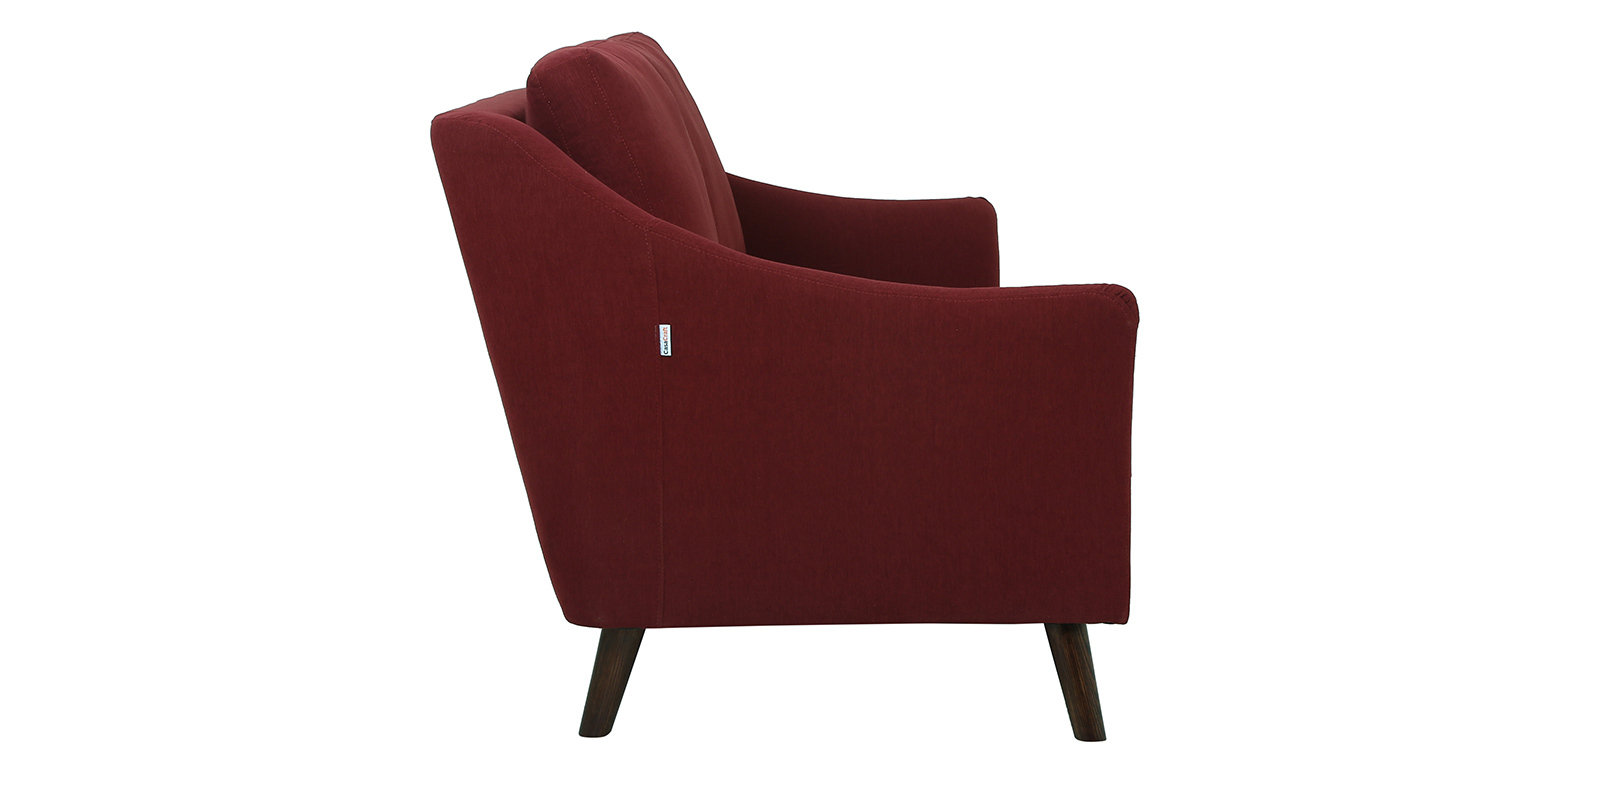Juan Three Seater Sofa in Garnet Red Colour by CasaCraft: (418, 16, 1184, 755)
